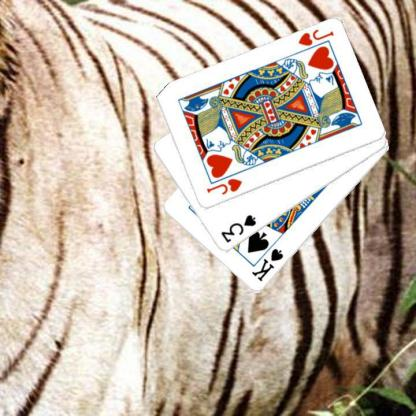3S: (218, 212, 258, 244)
JH: (295, 27, 335, 48), (204, 176, 243, 197)
KS: (249, 246, 285, 283)
